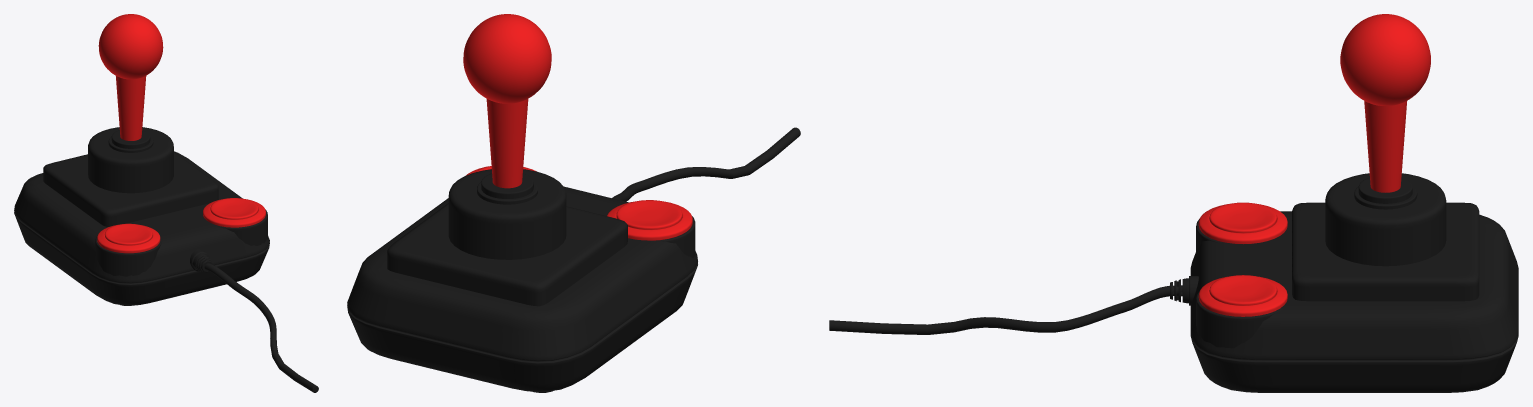
File: joystick.fbx
The picture shows the model from 3 angles, left to right: view 1: azimuth 30°, elevation 25°; view 2: azimuth 150°, elevation 25°; view 3: azimuth 270°, elevation 25°; orthographic projection. The views are drawn at different scales.
Parts seen in each view (by area): view 1: joy_main_body, joy_square, joy_stick, joy_button_r, joy_button_l, joy_wire, joy_cord_input; view 2: joy_main_body, joy_square, joy_stick, joy_button_r, joy_wire; view 3: joy_main_body, joy_square, joy_stick, joy_wire, joy_button_l, joy_button_r, joy_cord_input.
Boxes of the visible parts, box(x1,y1,x2,y2) form: joy_main_body: box(14, 151, 269, 305); joy_square: box(43, 127, 218, 226); joy_stick: box(98, 14, 163, 140); joy_button_r: box(97, 223, 160, 253); joy_button_l: box(203, 198, 265, 227); joy_wire: box(204, 263, 318, 392); joy_cord_input: box(190, 249, 212, 272); joy_main_body: box(347, 186, 697, 392); joy_square: box(387, 169, 627, 306); joy_stick: box(463, 14, 551, 188); joy_button_r: box(607, 200, 692, 240); joy_wire: box(612, 127, 800, 201); joy_main_body: box(1190, 211, 1518, 392); joy_square: box(1292, 173, 1479, 301); joy_stick: box(1340, 14, 1430, 192); joy_wire: box(829, 285, 1182, 334); joy_button_l: box(1198, 275, 1287, 316); joy_button_r: box(1198, 202, 1287, 244); joy_cord_input: box(1170, 276, 1198, 305).
Bounding box in the file's own units: 0.0929 × 0.1209 × 0.2303.
